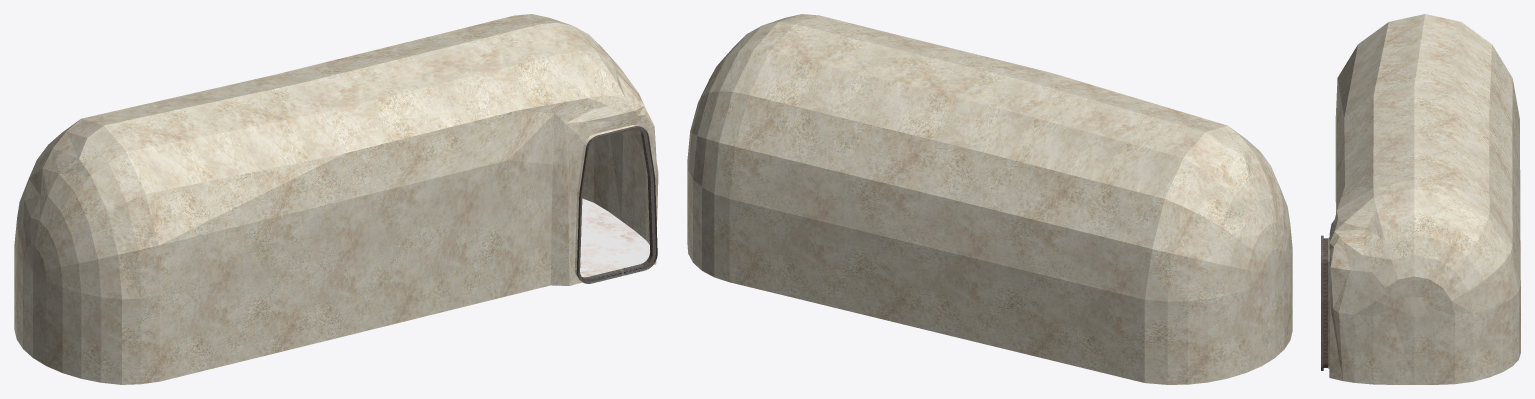
The model's file is ply_tato_assoc_hall_civ_s02_r4_kitchen_mesh_r4.fbx.
The picture shows the model from 3 angles, left to right: view 1: azimuth 30°, elevation 25°; view 2: azimuth 150°, elevation 25°; view 3: azimuth 270°, elevation 25°; orthographic projection. The views are drawn at different scales.
Visible parts, largest first — view 1: mesh_node; view 2: mesh_node; view 3: mesh_node.
Part boxes in pixels (x1,y1,x2,y2): mesh_node: [14, 14, 658, 384]; mesh_node: [687, 14, 1292, 384]; mesh_node: [1321, 14, 1520, 384].
Bounding box in the file's own units: 13.38 × 4.76 × 4.97.
